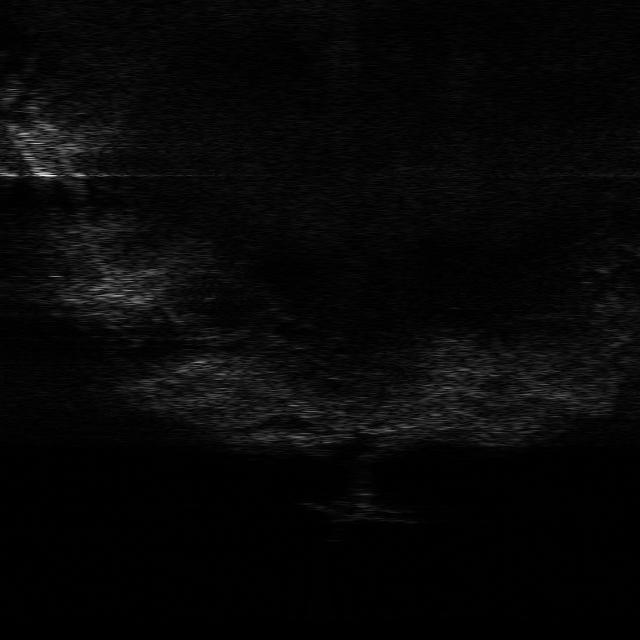plane: (301, 496, 420, 526)
